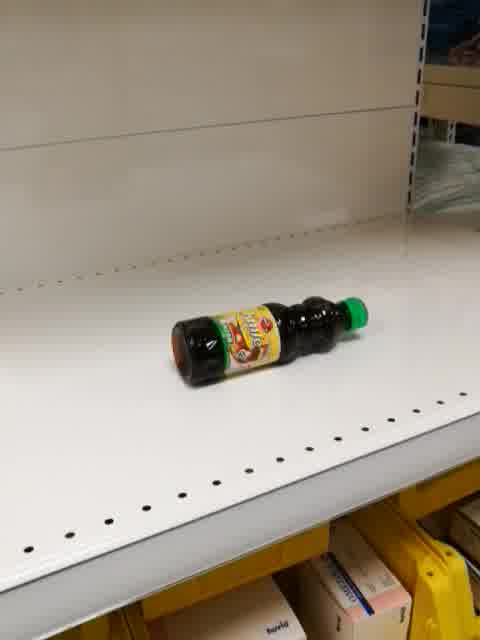cookingoil: (167, 294, 371, 388)
